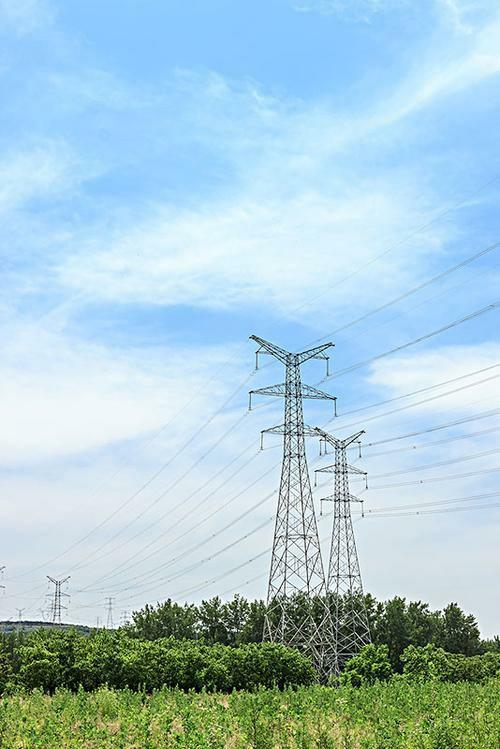power_tower: (237, 329, 349, 679), (314, 414, 378, 671), (41, 567, 78, 621)
